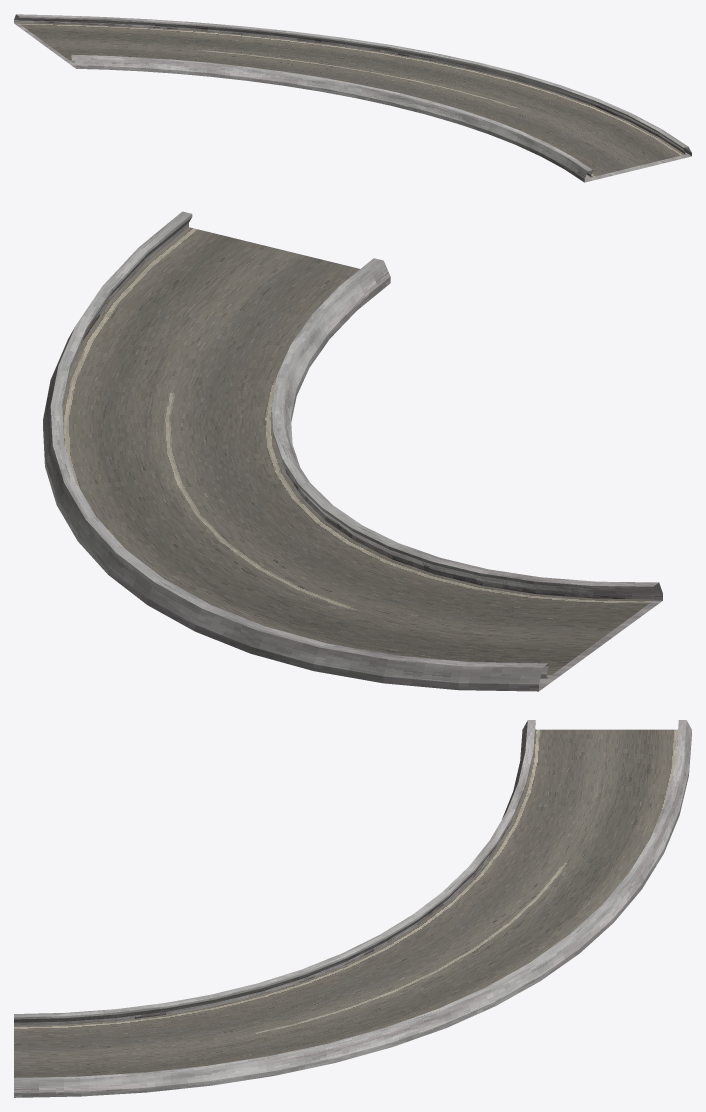
Rendered from turn-left4x4.glb.
3 renders of one model, top to bottom at view 1: azimuth 30°, elevation 25°; view 2: azimuth 150°, elevation 25°; view 3: azimuth 270°, elevation 25°, orthographic. The views are drawn at different scales.
Visible parts, largest first — view 1: road-Turn-Flat-BiSlopeUp-Up2-Left-Size4; view 2: road-Turn-Flat-BiSlopeUp-Up2-Left-Size4; view 3: road-Turn-Flat-BiSlopeUp-Up2-Left-Size4.
Boxes of the visible parts, x1,y1,x2,y2 form: road-Turn-Flat-BiSlopeUp-Up2-Left-Size4: (14, 14, 691, 182); road-Turn-Flat-BiSlopeUp-Up2-Left-Size4: (43, 211, 662, 691); road-Turn-Flat-BiSlopeUp-Up2-Left-Size4: (14, 720, 691, 1097).
Bounding box in the file's own units: 4 × 0.595 × 4.
Materials: 2 (2 with a texture image).
